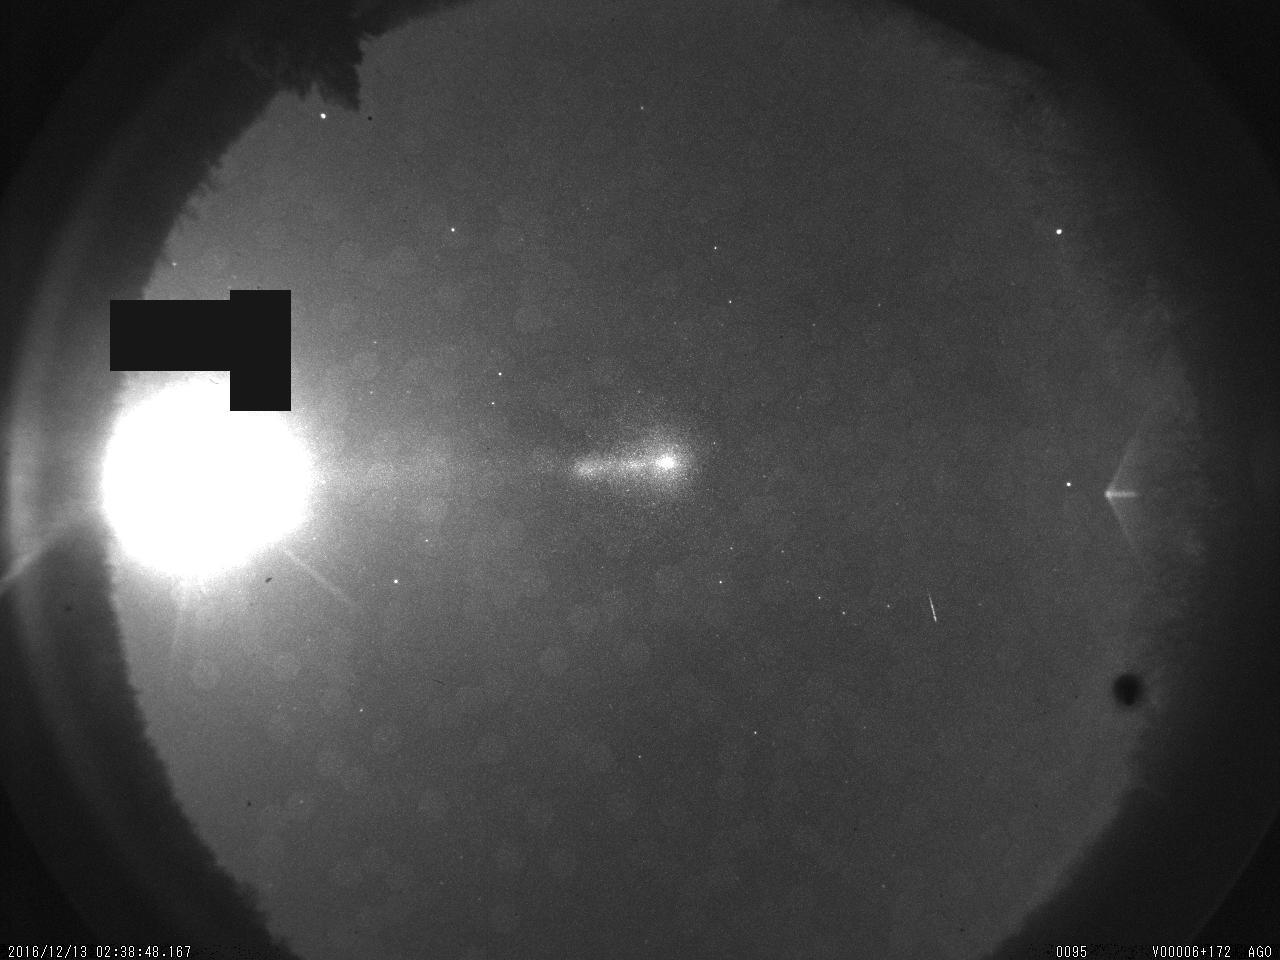meteor: (918, 583, 943, 628)
